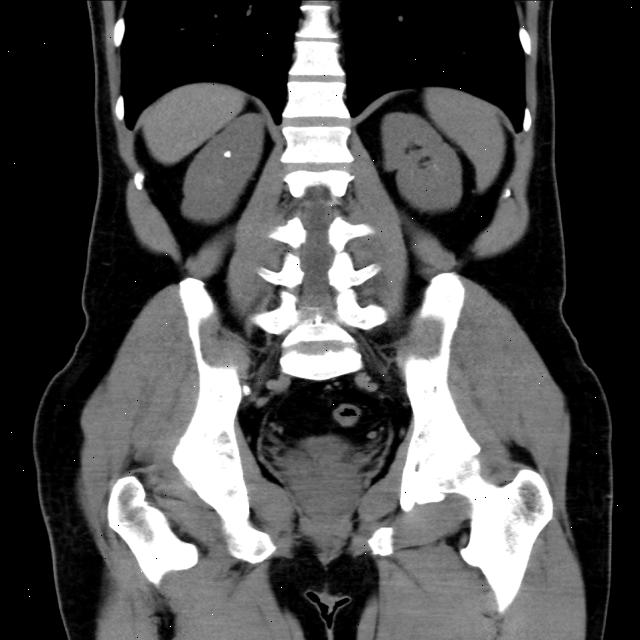kidneystone: (223, 150, 231, 158)
